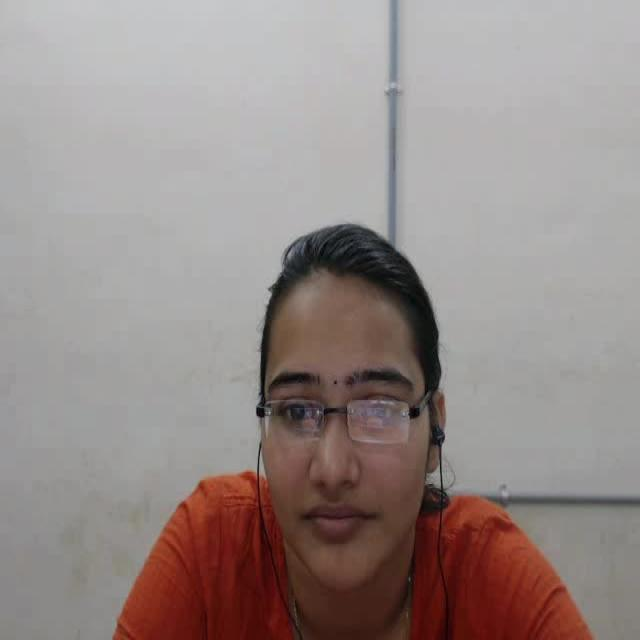Engaged: (212, 194, 547, 632)
